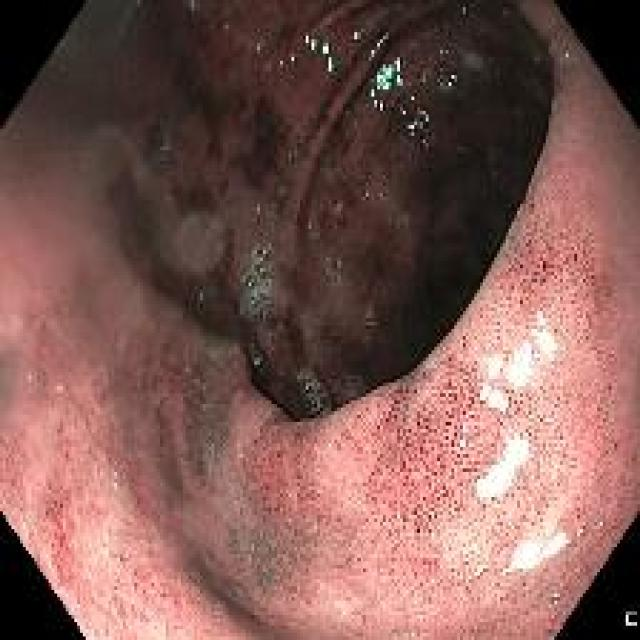blood: (408, 159, 510, 341), (160, 303, 246, 484), (103, 360, 190, 499), (158, 244, 257, 365), (218, 524, 312, 621), (99, 166, 170, 293), (128, 2, 217, 93), (181, 538, 263, 632), (175, 49, 240, 147), (229, 92, 291, 194), (279, 315, 315, 377), (167, 182, 218, 223)
blur: (4, 4, 272, 533)
bubbles: (415, 37, 464, 98), (242, 240, 272, 320), (297, 366, 329, 416), (328, 370, 371, 406), (454, 46, 495, 77), (269, 381, 285, 413), (250, 36, 270, 57), (362, 308, 378, 334), (327, 254, 342, 281), (390, 212, 408, 234), (356, 182, 374, 203), (280, 147, 297, 169), (420, 135, 433, 158), (446, 71, 459, 94), (155, 141, 170, 158), (377, 183, 387, 207), (250, 355, 265, 370), (341, 233, 353, 251), (334, 200, 343, 214)
color misalignment: (171, 210, 225, 275)
contrast: (4, 3, 554, 345)
saturation: (445, 506, 574, 585), (477, 314, 561, 403), (472, 432, 544, 499), (557, 49, 572, 68)
specularity: (370, 53, 403, 111), (365, 29, 393, 61), (407, 109, 428, 140), (549, 588, 565, 609), (576, 523, 590, 545), (304, 31, 317, 50), (445, 71, 457, 91), (456, 433, 468, 451), (322, 56, 335, 72), (461, 3, 475, 17), (351, 27, 363, 43), (392, 72, 404, 88), (474, 562, 486, 578), (391, 56, 402, 72), (319, 40, 331, 53), (465, 404, 475, 419), (463, 573, 474, 584), (259, 247, 267, 261), (288, 51, 297, 63), (565, 534, 573, 547), (392, 510, 401, 521), (469, 538, 478, 549), (555, 294, 565, 303), (428, 530, 436, 541), (460, 422, 467, 430), (563, 51, 569, 60), (258, 267, 264, 274), (246, 281, 252, 286), (252, 297, 256, 304)
